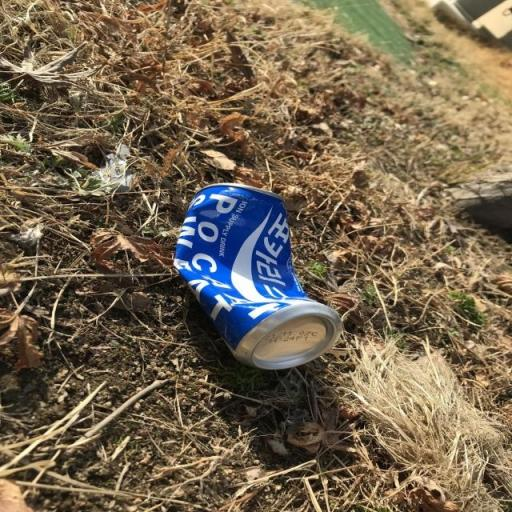metal: (164, 170, 362, 396)
